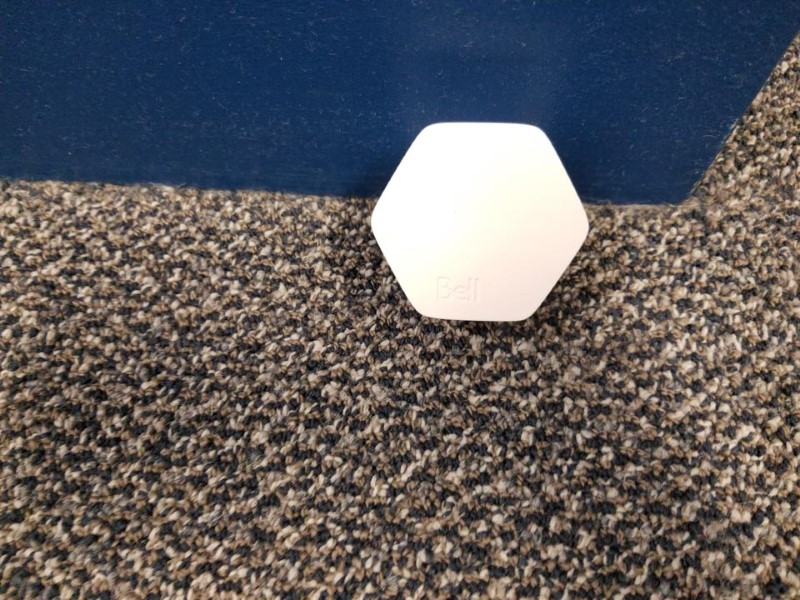pod: (365, 118, 596, 328)
